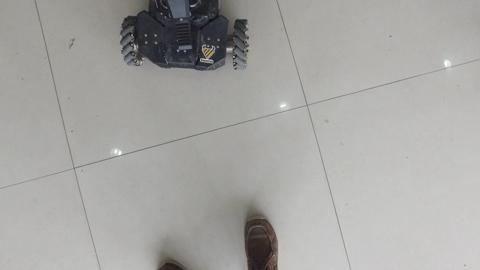chariot: (118, 1, 253, 86)
